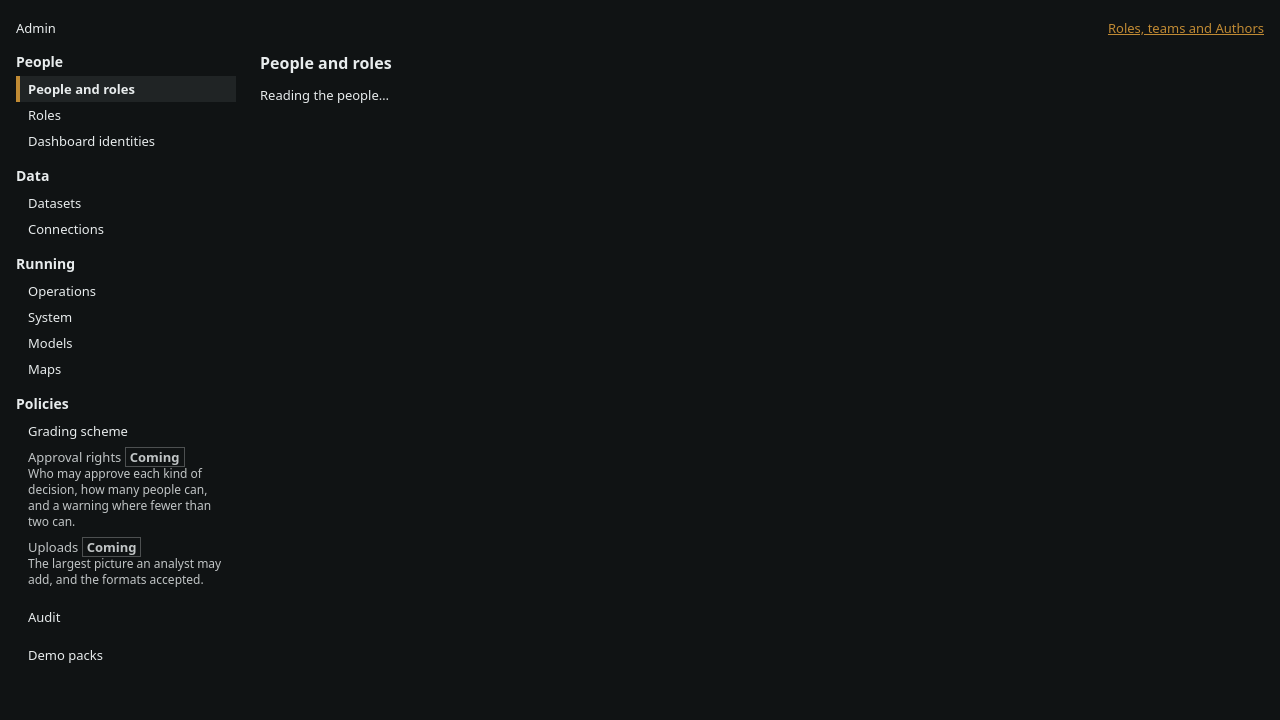
Test case: Admin's words: roles by name, never people or ids › in Roles, nothing names a person in a tip or shows an id
What coordinates should you click on to do the following:
click the button "Roles"
I would click on:
 (128, 115)
Its box is [20,102,236,128].
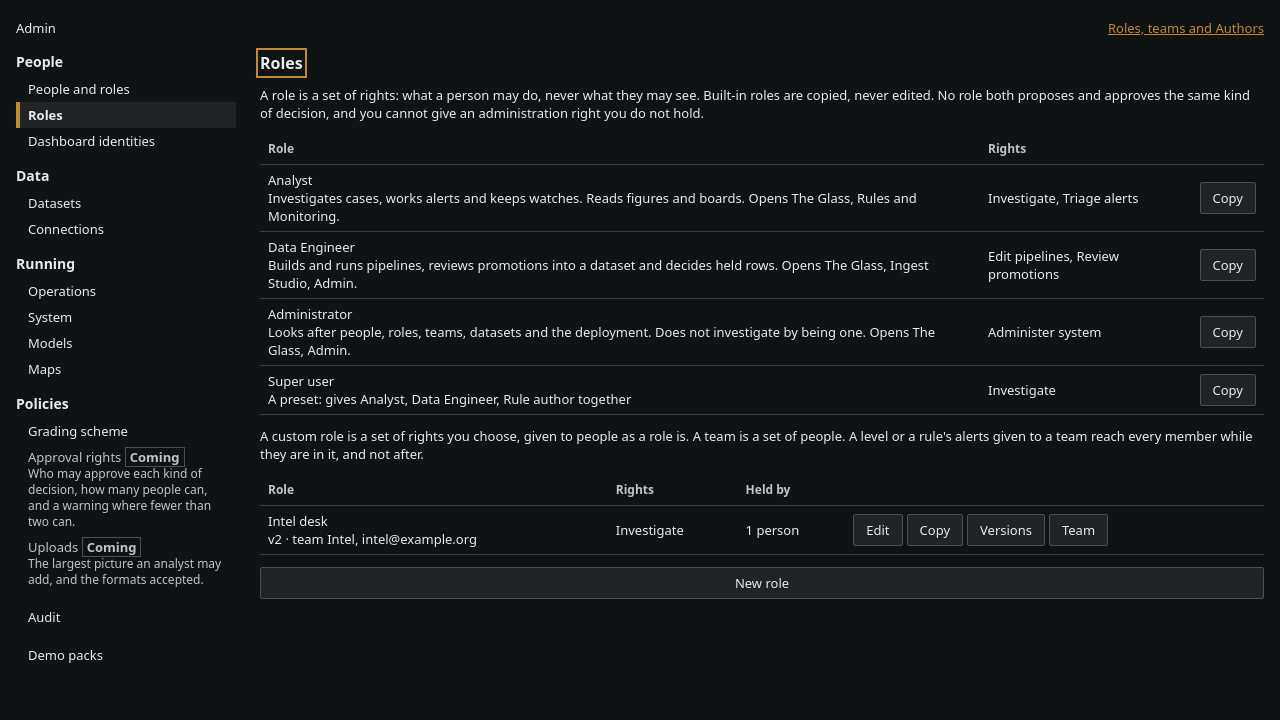
Expected: the heading with id "admin-section-title" reads "Roles", [260,52,303,74]
